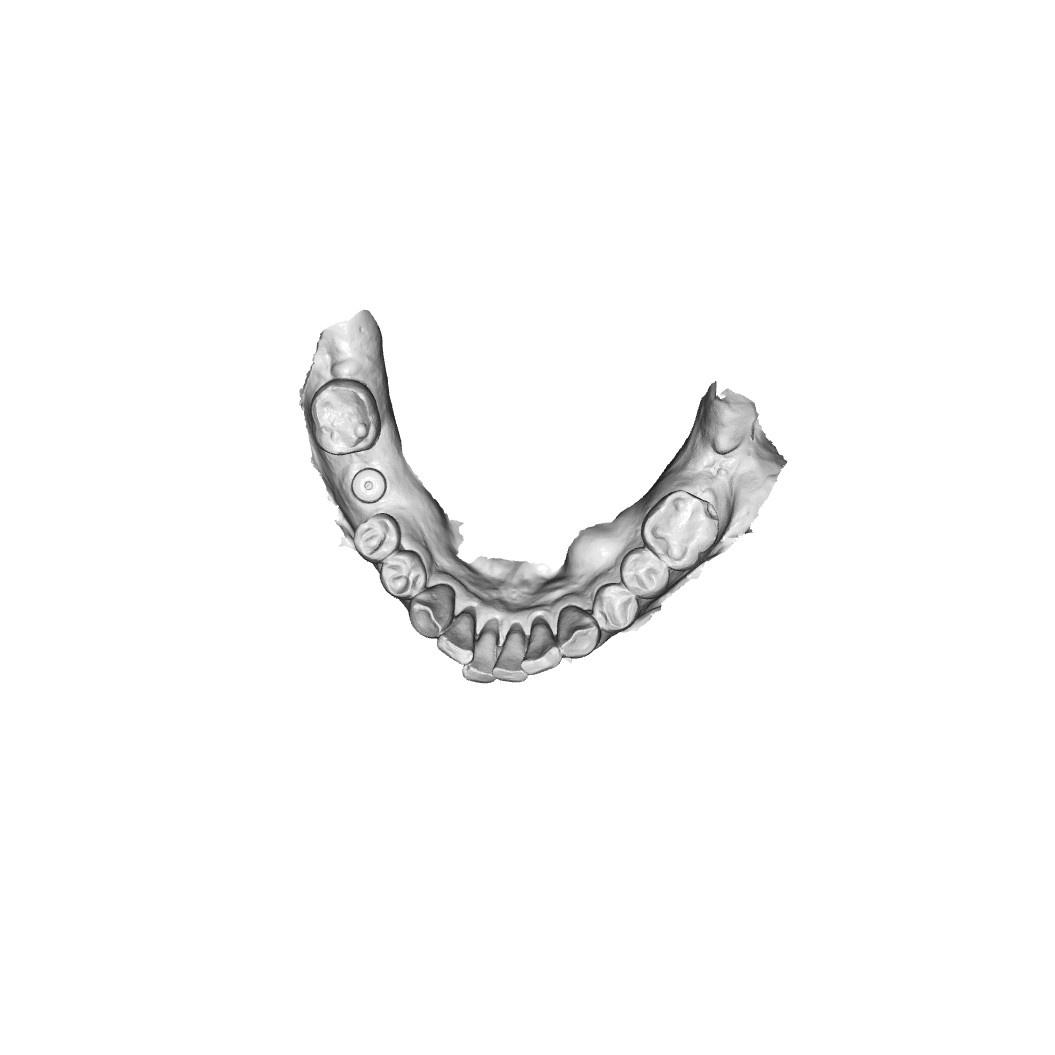canine: (409, 584, 458, 642), (556, 605, 599, 660)
implant: (347, 461, 391, 506)
incisor: (521, 623, 562, 676), (437, 615, 478, 667), (493, 629, 528, 685), (464, 627, 496, 685)
molar: (640, 488, 723, 573), (309, 376, 379, 458)
premolar: (619, 545, 671, 600), (591, 580, 639, 633), (379, 549, 428, 599), (352, 512, 399, 561)
